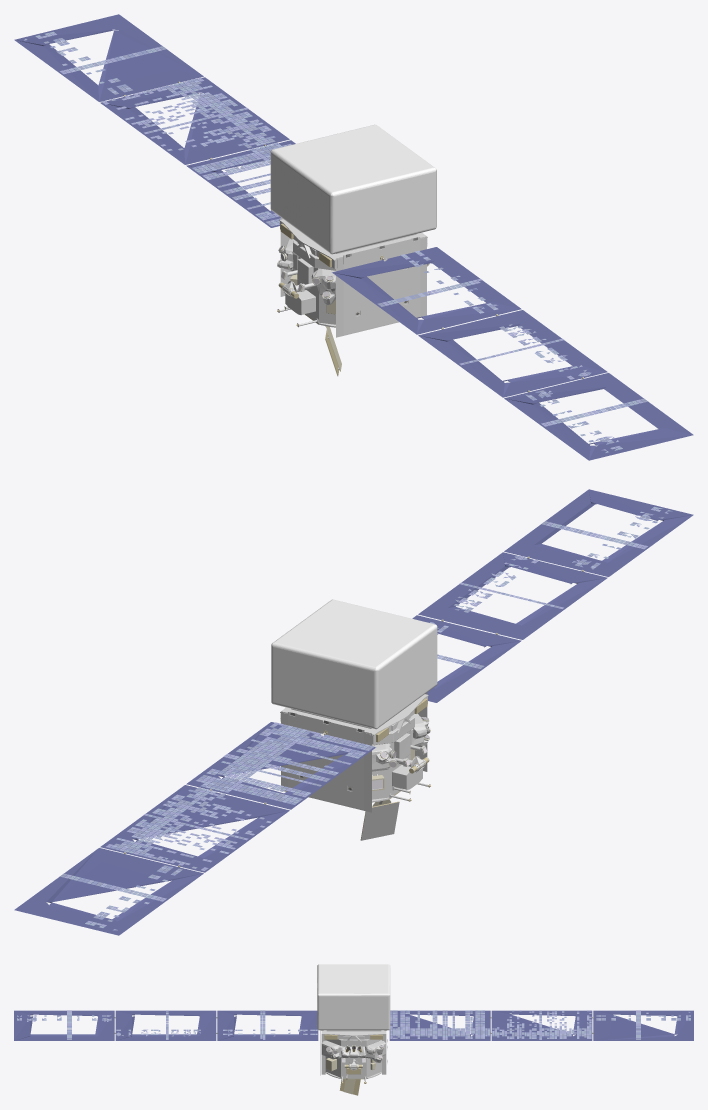
File: fermi.glb
3 views of the same model, one above another, from view 1: azimuth 30°, elevation 25°; view 2: azimuth 150°, elevation 25°; view 3: azimuth 270°, elevation 25° (orthographic). The views are drawn at different scales.
Visible parts, largest first — view 1: Layer_1, Layer_2, Layer_0; view 2: Layer_1, Layer_2, Layer_0; view 3: Layer_1, Layer_2, Layer_0.
Boxes of the visible parts, x1=… form: Layer_1: x1=14, y1=14, x2=693, y2=460; Layer_2: x1=270, y1=124, x2=436, y2=254; Layer_0: x1=277, y1=217, x2=429, y2=376; Layer_1: x1=14, y1=489, x2=693, y2=935; Layer_2: x1=271, y1=599, x2=437, y2=729; Layer_0: x1=278, y1=692, x2=430, y2=840; Layer_1: x1=14, y1=1010, x2=693, y2=1040; Layer_2: x1=317, y1=964, x2=390, y2=1030; Layer_0: x1=320, y1=1030, x2=387, y2=1095.
Size of the model in its own units: 2.06 by 2.91 by 15.
